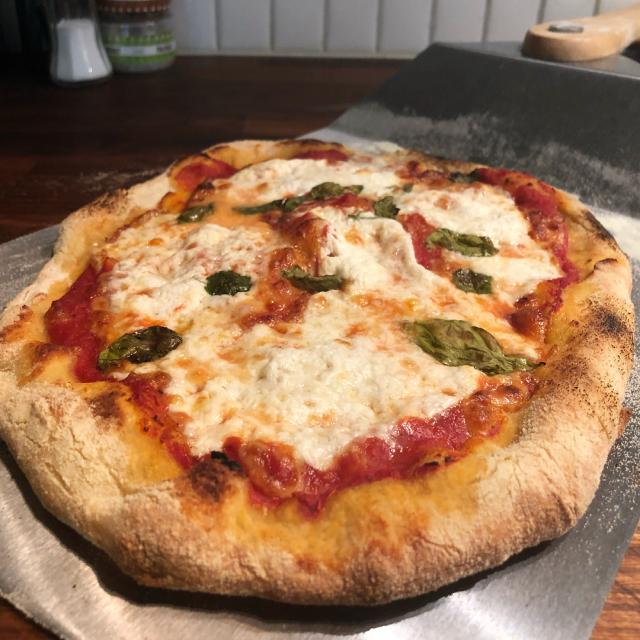basil: (402, 319, 540, 375), (234, 182, 362, 215), (99, 326, 182, 368), (427, 229, 498, 257), (282, 266, 342, 292), (205, 270, 251, 296), (452, 269, 492, 294), (178, 205, 214, 223), (372, 197, 399, 220)
pizza: (0, 140, 634, 605)
